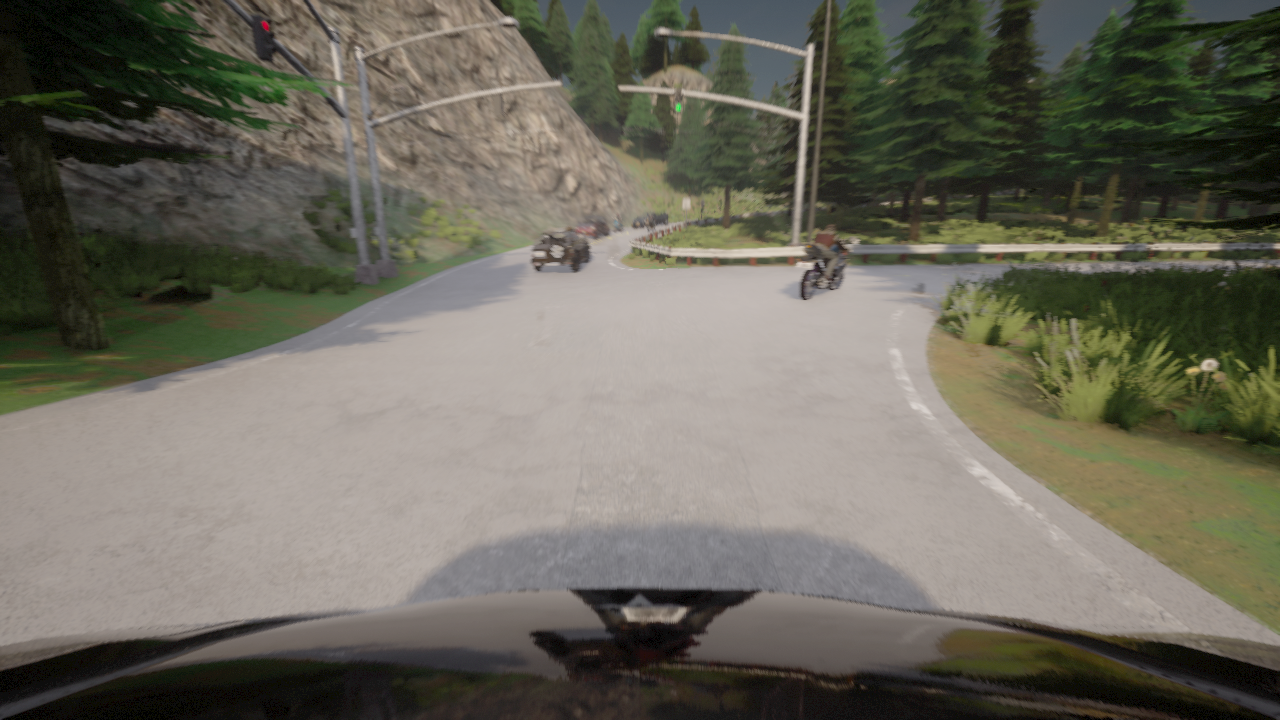cyclist: (0, 588, 1279, 719), (795, 237, 858, 300), (530, 225, 589, 272), (574, 215, 609, 238), (632, 211, 668, 227), (645, 218, 656, 232), (612, 217, 622, 231)
